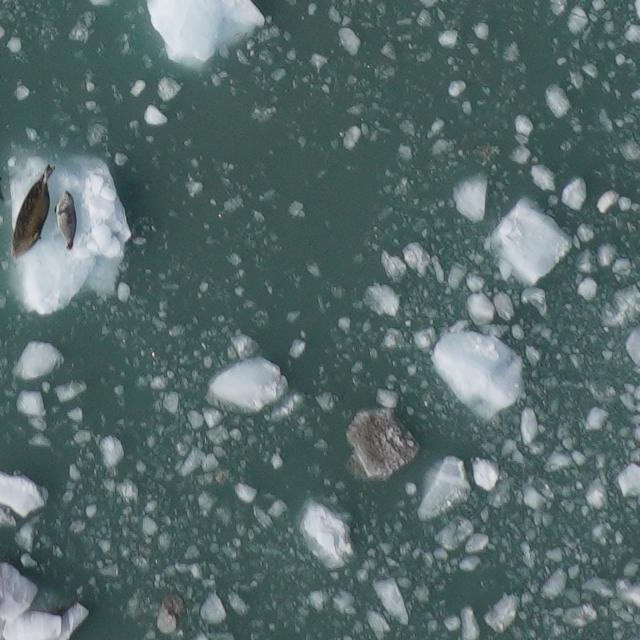seal: (6, 158, 62, 263), (50, 186, 82, 256)
